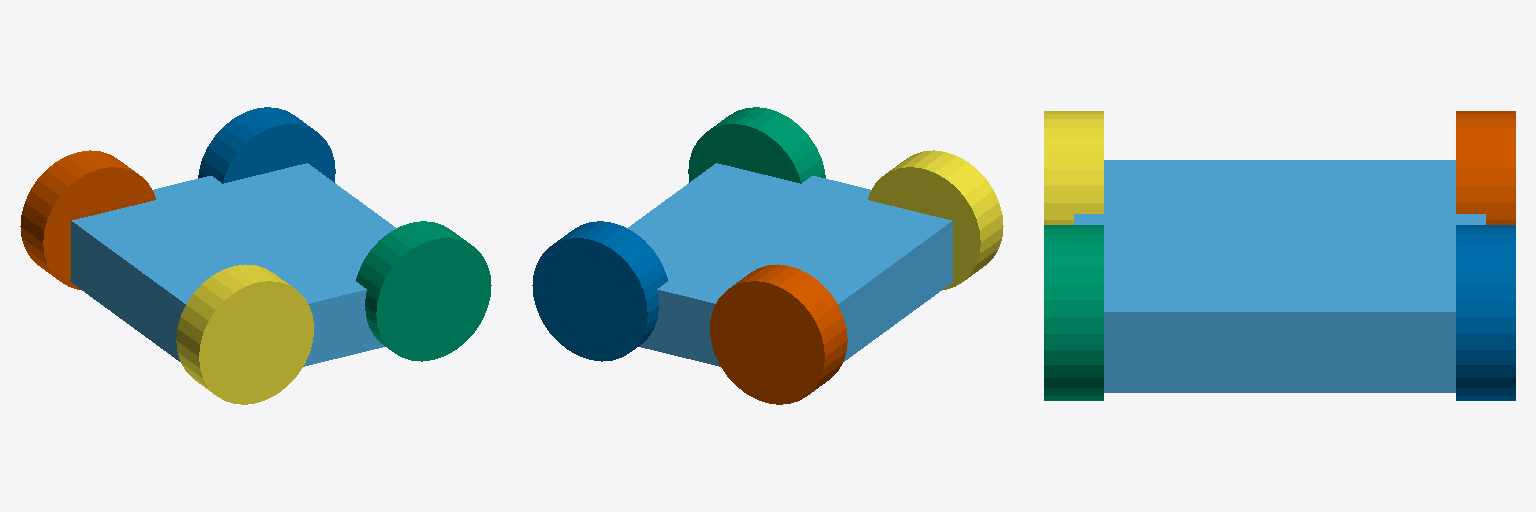
The robot description file, URDF, robot "coco_isaac_base":
<robot name="coco_isaac_base"><link name="base_footprint" /><link name="base_link"><visual><origin xyz="0 0 0.03" rpy="0 0 0" /><geometry><box size="0.24 0.274 0.06" /></geometry></visual></link><joint name="base_footprint_joint" type="fixed"><parent link="base_footprint" /><child link="base_link" /><origin xyz="0 0 0.0135" rpy="0 0 0" /></joint><link name="wheel1"><visual><origin xyz="0 0 0" rpy="1.5707963267948966 0 0" /><geometry><cylinder radius="0.0585" length="0.04" /></geometry></visual></link><joint name="wheel1_joint" type="continuous"><parent link="base_link" /><child link="wheel1" /><origin xyz="0.09 -0.137 0.045" rpy="0 0 0" /><axis xyz="0 1 0" /></joint><link name="wheel2"><visual><origin xyz="0 0 0" rpy="1.5707963267948966 0 0" /><geometry><cylinder radius="0.0585" length="0.04" /></geometry></visual></link><joint name="wheel2_joint" type="continuous"><parent link="base_link" /><child link="wheel2" /><origin xyz="-0.09 -0.137 0.045" rpy="0 0 0" /><axis xyz="0 1 0" /></joint><link name="wheel3"><visual><origin xyz="0 0 0" rpy="1.5707963267948966 0 0" /><geometry><cylinder radius="0.0585" length="0.04" /></geometry></visual></link><joint name="wheel3_joint" type="continuous"><parent link="base_link" /><child link="wheel3" /><origin xyz="0.09 0.137 0.045" rpy="0 0 0" /><axis xyz="0 1 0" /></joint><link name="wheel4"><visual><origin xyz="0 0 0" rpy="1.5707963267948966 0 0" /><geometry><cylinder radius="0.0585" length="0.04" /></geometry></visual></link><joint name="wheel4_joint" type="continuous"><parent link="base_link" /><child link="wheel4" /><origin xyz="-0.09 0.137 0.045" rpy="0 0 0" /><axis xyz="0 1 0" /></joint><link name="lidar_link" /><joint name="lidar_link_joint" type="fixed"><parent link="base_link" /><child link="lidar_link" /><origin xyz="-0.09 0.1 0.2" rpy="0 0 0" /></joint><link name="camera_link" /><joint name="camera_link_joint" type="fixed"><parent link="base_link" /><child link="camera_link" /><origin xyz="0.125 0.0 0.055" rpy="0 0 0" /></joint><link name="camera_optical_frame" /><joint name="camera_optical_joint" type="fixed"><parent link="camera_link" /><child link="camera_optical_frame" /><origin xyz="0 0 0" rpy="-1.5707963267948966 0 -1.5707963267948966" /></joint></robot>

--- What the picture shows (computed from the rendered views, not written in the file) ---
The picture shows the robot from 3 angles, left to right: view 1: azimuth 30°, elevation 25°; view 2: azimuth 150°, elevation 25°; view 3: azimuth 270°, elevation 25°; orthographic projection.
Model coco_isaac_base with 9 links and 8 joints (4 continuous, 4 fixed), rooted at base_footprint, posed every joint at zero.
Visible links, largest first — view 1: base_link, wheel2, wheel1, wheel4, wheel3; view 2: base_link, wheel4, wheel3, wheel2, wheel1; view 3: base_link, wheel1, wheel3, wheel2, wheel4.
Link boxes in pixels (bbox=[...]): base_link: bbox=[71, 163, 396, 366]; wheel2: bbox=[176, 264, 313, 404]; wheel1: bbox=[356, 221, 491, 361]; wheel4: bbox=[20, 150, 155, 289]; wheel3: bbox=[198, 107, 335, 183]; base_link: bbox=[627, 163, 952, 366]; wheel4: bbox=[710, 264, 847, 404]; wheel3: bbox=[532, 221, 667, 361]; wheel2: bbox=[868, 150, 1003, 289]; wheel1: bbox=[688, 107, 825, 183]; base_link: bbox=[1074, 160, 1485, 392]; wheel1: bbox=[1044, 225, 1103, 400]; wheel3: bbox=[1456, 225, 1515, 400]; wheel2: bbox=[1044, 111, 1103, 224]; wheel4: bbox=[1456, 111, 1515, 224].
Bounding box of the posed robot: 0.297 × 0.314 × 0.117 m (x, y, z).
Geometry: primitives only (box / cylinder / sphere), no mesh files.
